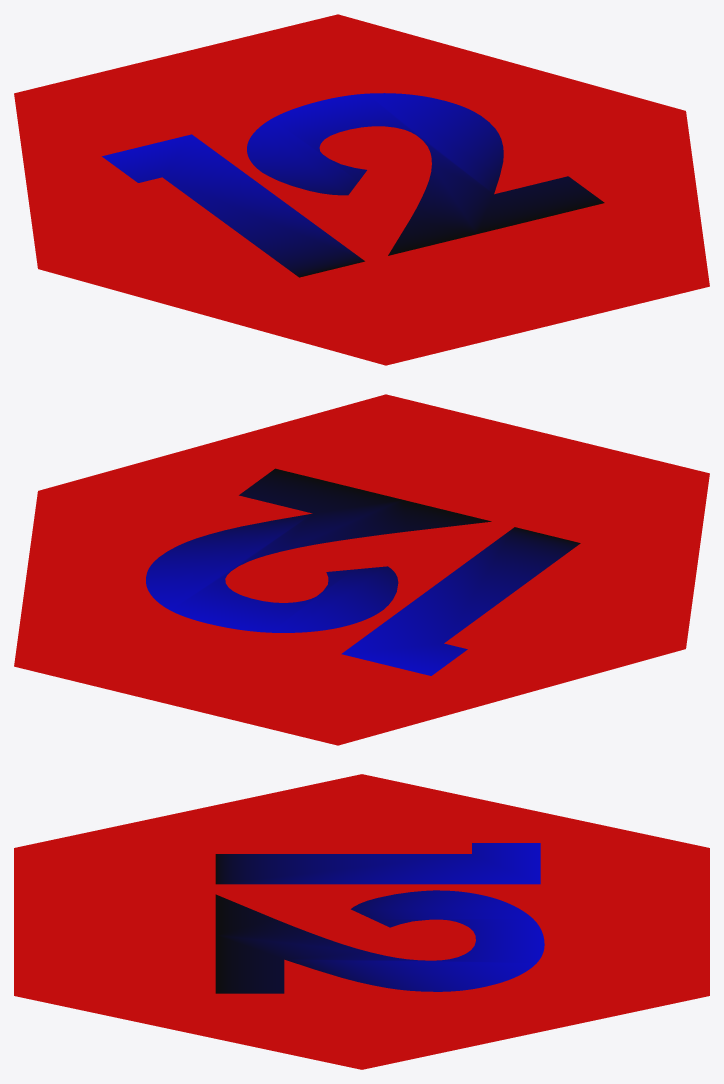
Rendered from SM_Number_12.fbx.
The picture shows the model from 3 angles, top to bottom: view 1: azimuth 30°, elevation 25°; view 2: azimuth 150°, elevation 25°; view 3: azimuth 270°, elevation 25°; orthographic projection. The views are drawn at different scales.
Parts seen in each view (by area): view 1: FBX_OUT; view 2: FBX_OUT; view 3: FBX_OUT.
Part boxes in pixels (x1,y1,x2,y2): FBX_OUT: [14, 14, 709, 365]; FBX_OUT: [14, 394, 709, 745]; FBX_OUT: [14, 774, 709, 1069].
Bounding box in the file's own units: 50 × 0.2917 × 49.71.
